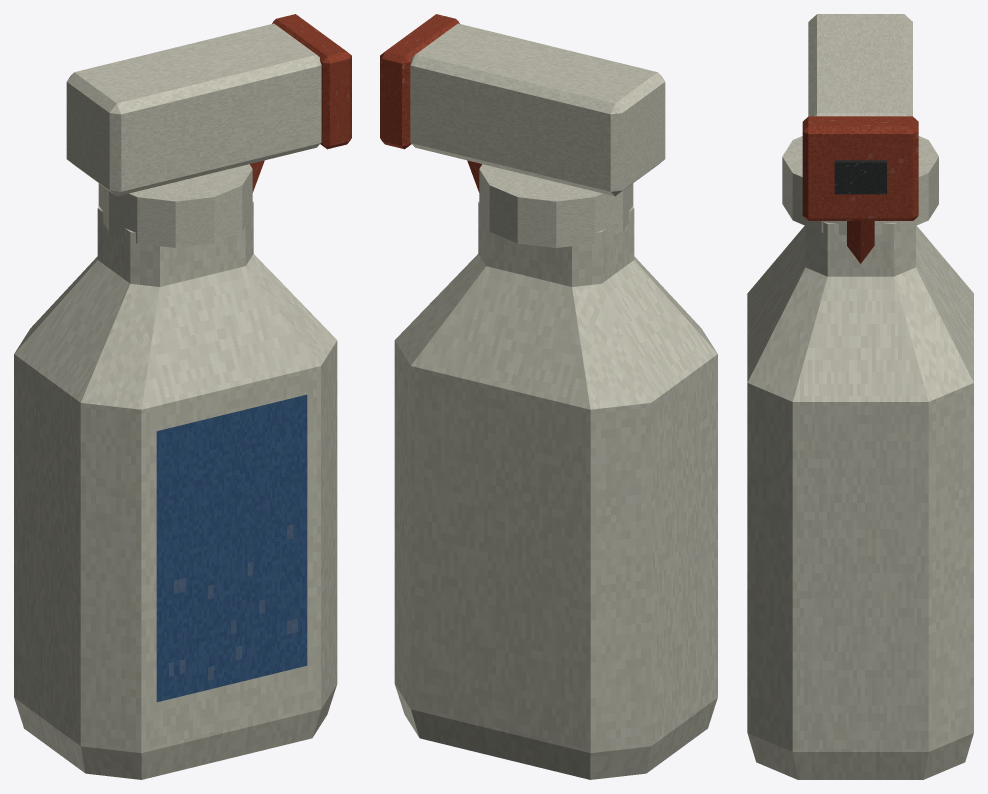
File: spray_cleaner_bottle.glb
3 renders of one model, left to right at view 1: azimuth 30°, elevation 25°; view 2: azimuth 150°, elevation 25°; view 3: azimuth 270°, elevation 25°, orthographic.
Visible parts, largest first — view 1: spray_cleaner_bottle; view 2: spray_cleaner_bottle; view 3: spray_cleaner_bottle.
Boxes of the visible parts, x1,y1,x2,y2 form: spray_cleaner_bottle: (14,14,351,779); spray_cleaner_bottle: (380,14,717,779); spray_cleaner_bottle: (747,14,973,779).
Size of the model in its own units: 0.115 by 0.253 by 0.0785.
Materials: 4 (4 with a texture image).
